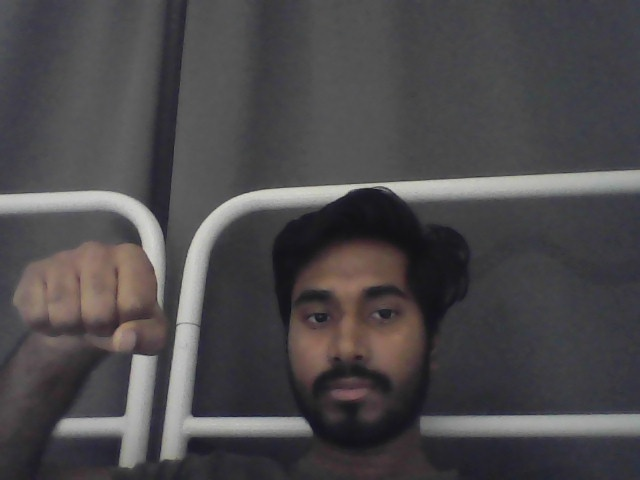yes: (10, 241, 176, 359)
